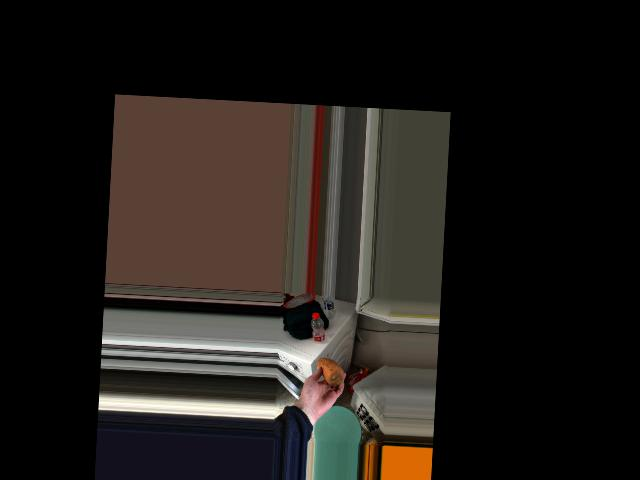sweet_potato: (312, 357, 341, 390)
